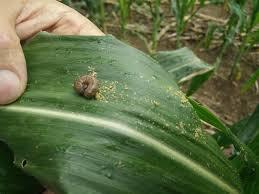fallarmy_worm: (73, 73, 102, 102)
